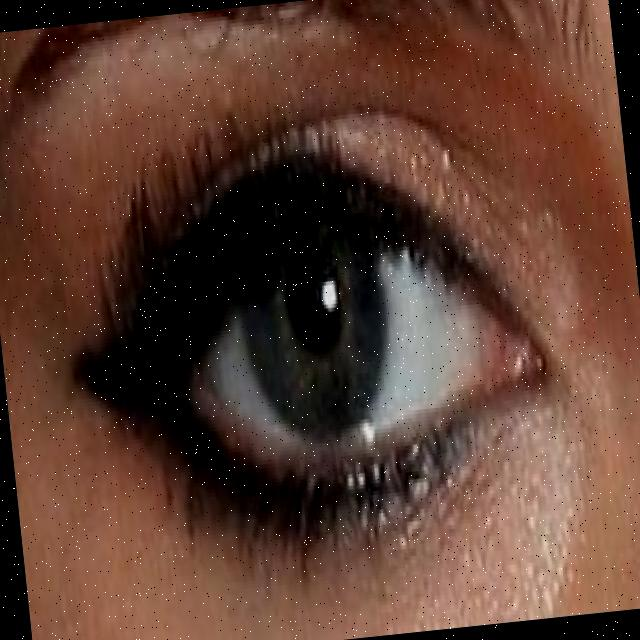Normal: (84, 115, 597, 562)
